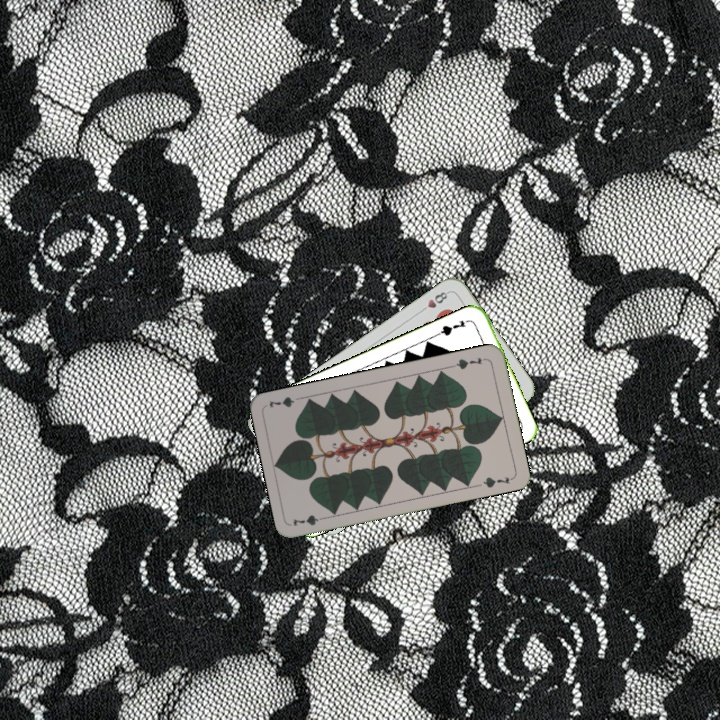G7: (434, 316, 473, 338), (449, 353, 489, 372), (289, 511, 330, 529)
H8: (416, 287, 452, 315)
